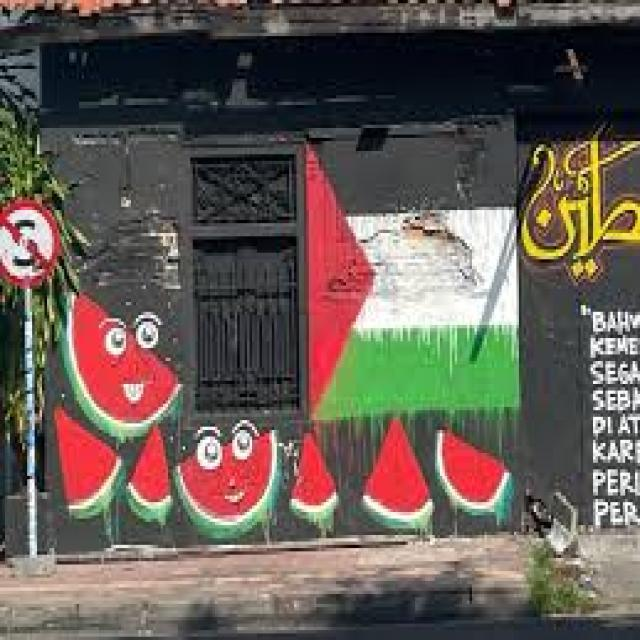-: (55, 286, 516, 544), (307, 142, 519, 412), (522, 121, 640, 282), (579, 300, 640, 530)
